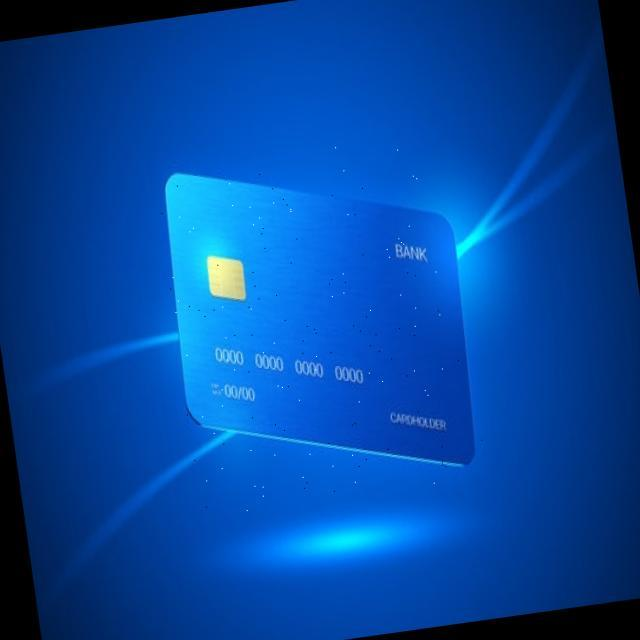payment_card: (163, 170, 476, 467)
